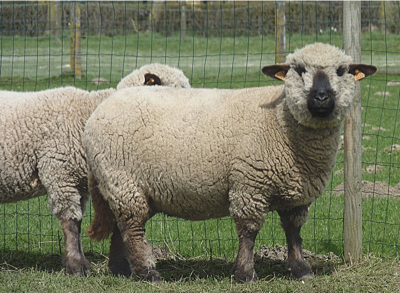koyun: (91, 42, 377, 279)
